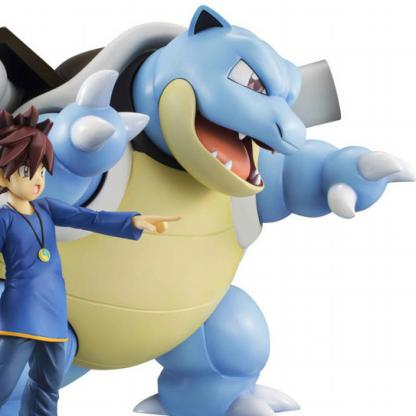Blastoise: (1, 6, 409, 411)
